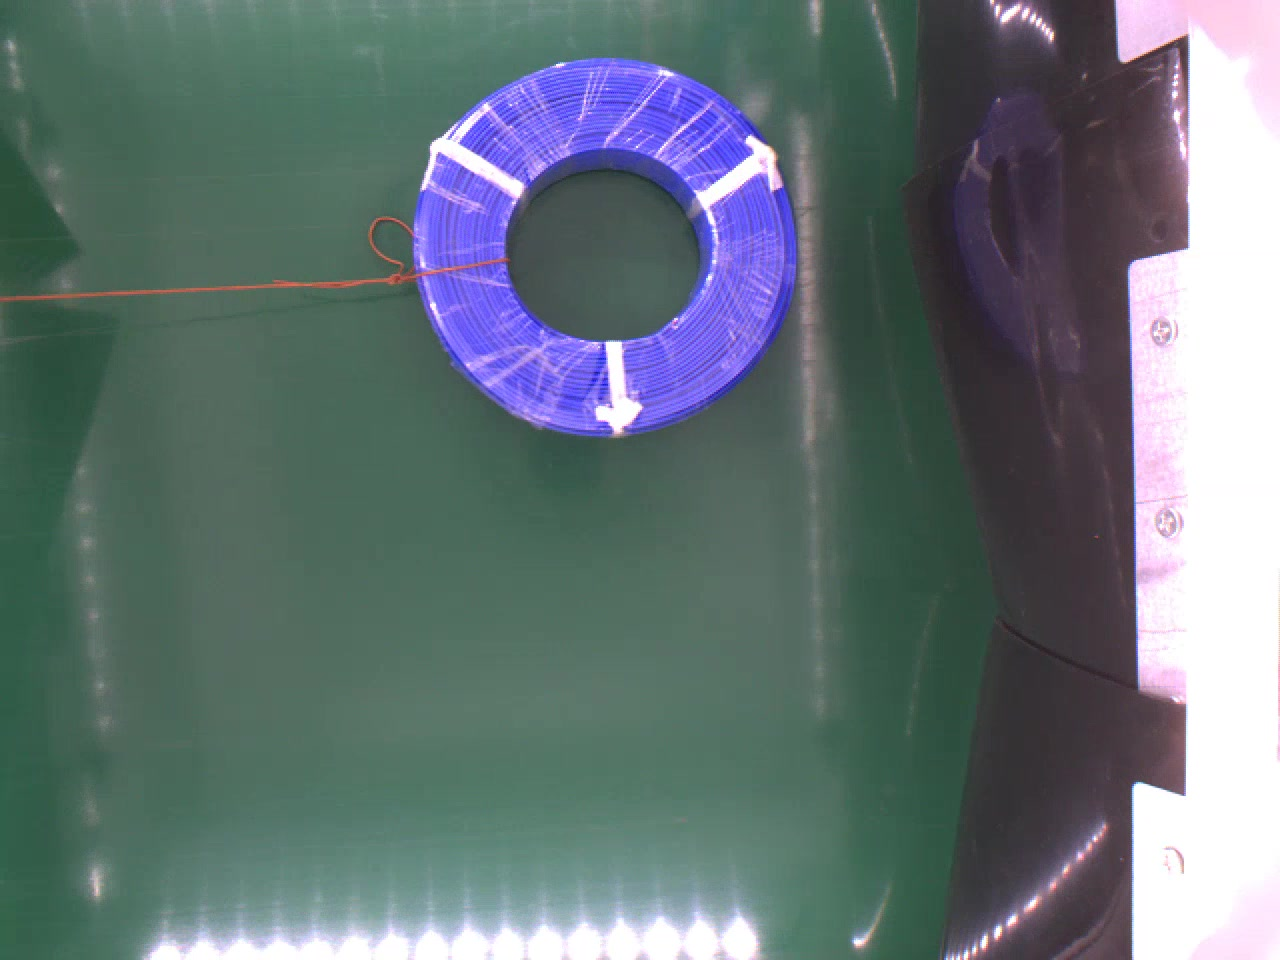blue: (414, 61, 794, 430)
